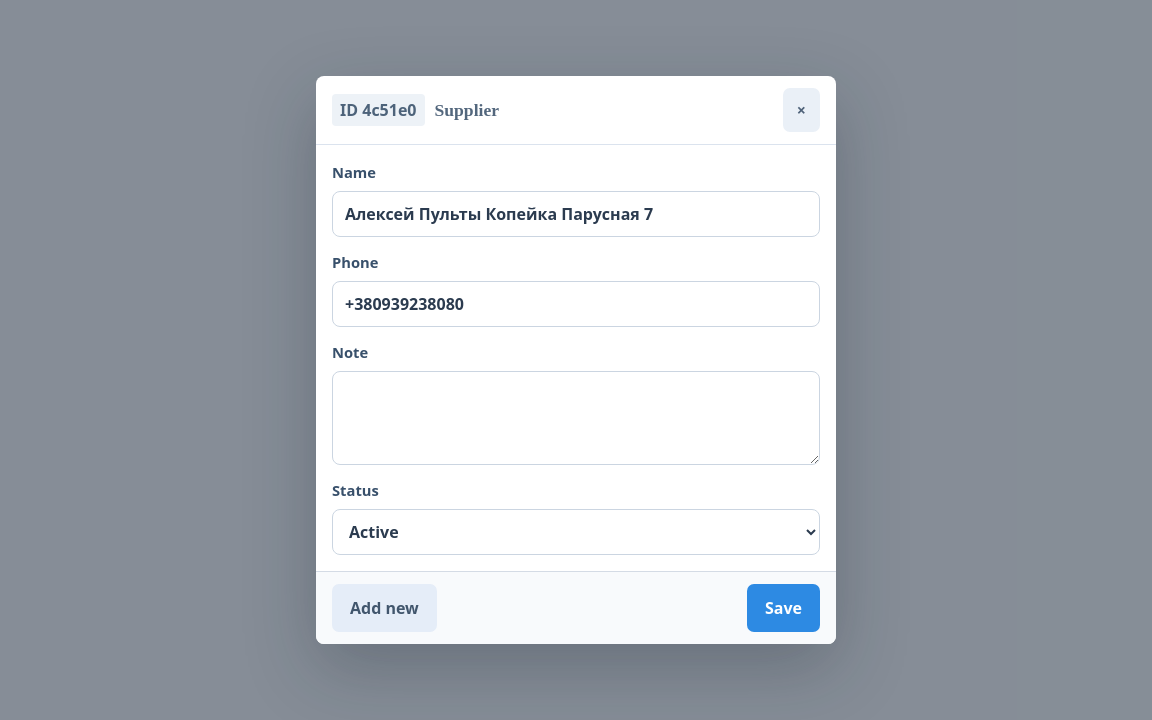
Test: SupplierModal Add new › does not clone the same phone and asks for a unique number
Click the button "Add new". click: (384, 608)
box: [332,584,437,632]
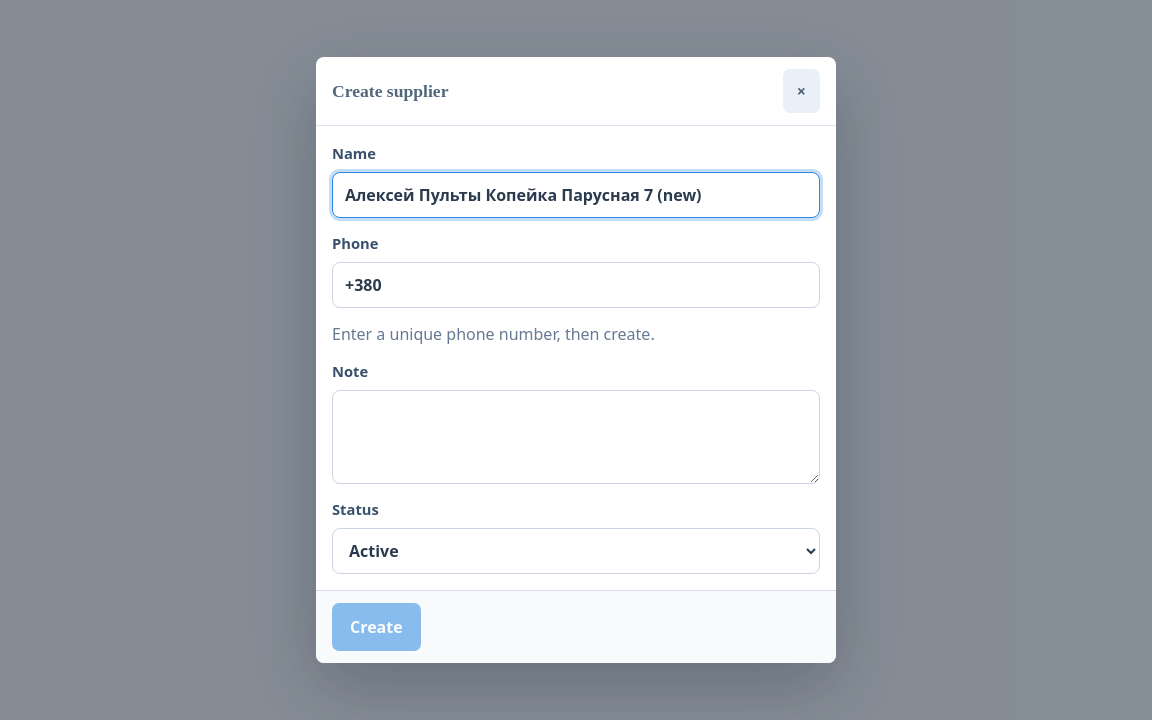
Expected: the field showing "+380" is shown, [332,262,820,308]
Expected: the heading "Create supplier" is shown, [332,78,448,104]
Expected: the button "Create" is disabled, [332,603,421,651]
